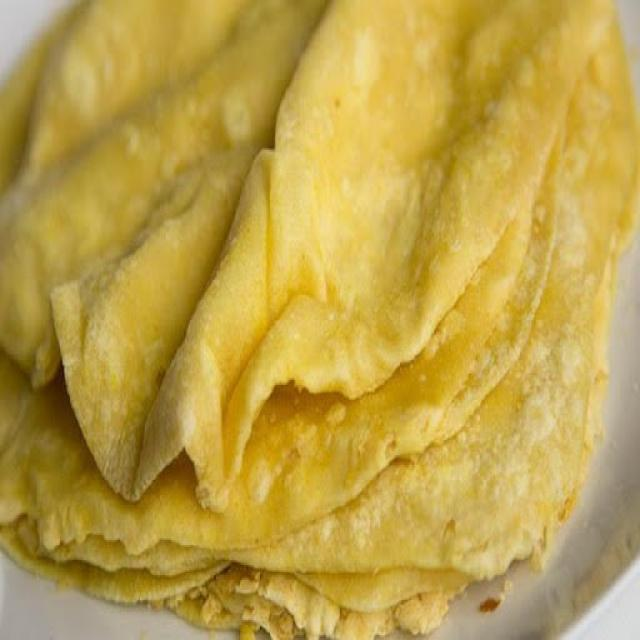potato: (8, 4, 624, 611)
puri: (1, 4, 639, 640)
